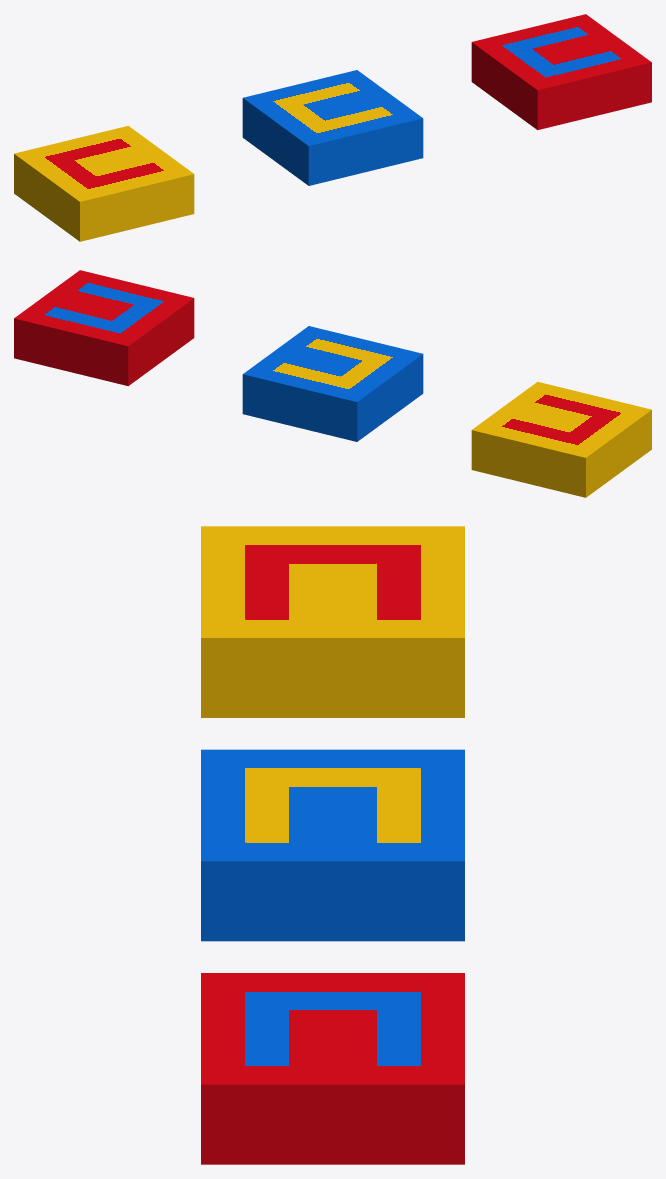
Rendered from item_coin.fbx.
The picture shows the model from 3 angles, top to bottom: view 1: azimuth 30°, elevation 25°; view 2: azimuth 150°, elevation 25°; view 3: azimuth 270°, elevation 25°; orthographic projection. The views are drawn at different scales.
Parts seen in each view (by area): view 1: item_coin_blue, item_coin_yellow, item_coin_red; view 2: item_coin_blue, item_coin_yellow, item_coin_red; view 3: item_coin_blue, item_coin_yellow, item_coin_red.
Boxes of the visible parts, box(x1,y1,x2,y2) form: item_coin_blue: box(242, 70, 423, 185); item_coin_yellow: box(14, 125, 194, 241); item_coin_red: box(471, 14, 651, 130); item_coin_blue: box(242, 326, 423, 441); item_coin_yellow: box(471, 381, 651, 497); item_coin_red: box(14, 270, 194, 386); item_coin_blue: box(201, 749, 464, 941); item_coin_yellow: box(201, 526, 464, 717); item_coin_red: box(201, 973, 464, 1164).
Bounding box in the file's own units: 30 × 2 × 6.
